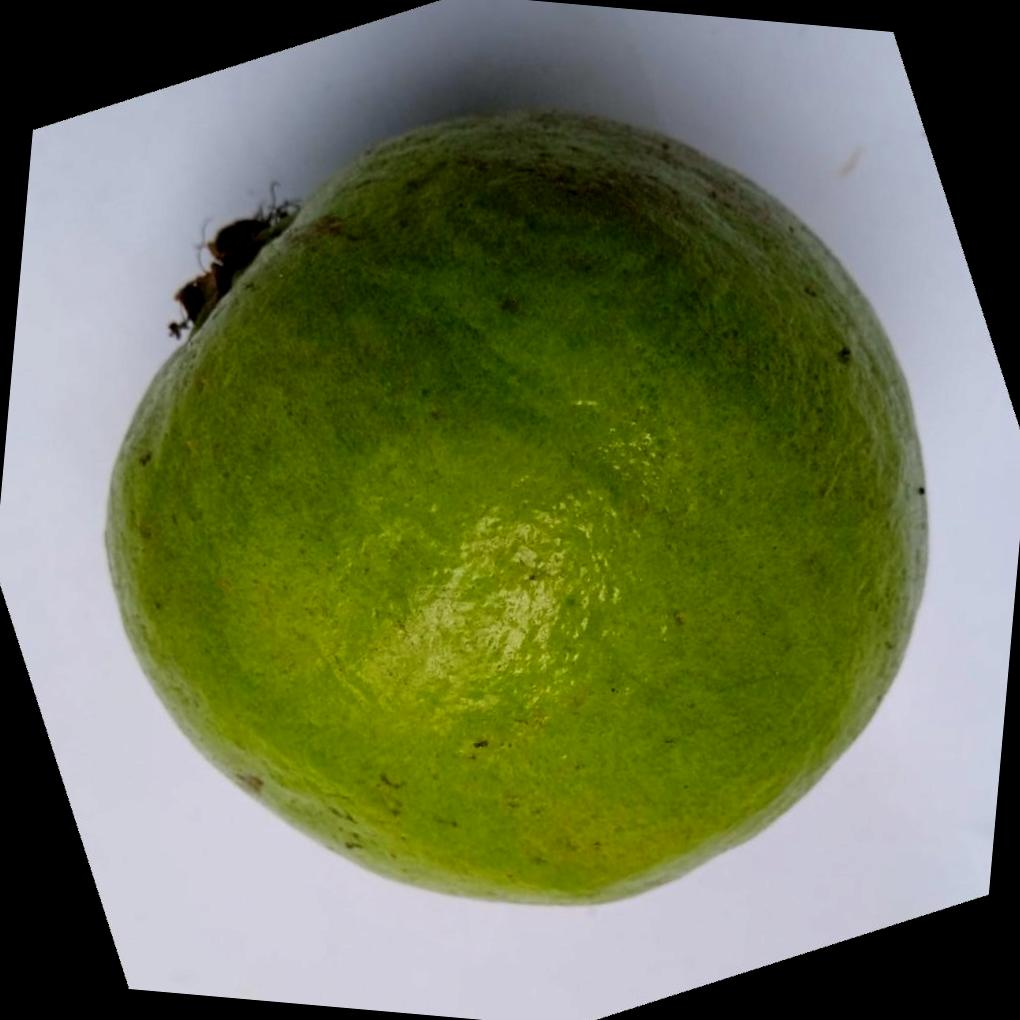FreshGuava: (97, 105, 926, 907)
